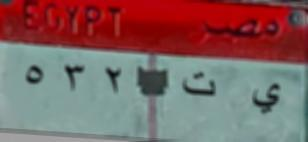2: (105, 62, 125, 98)
3: (61, 59, 87, 96)
5: (21, 58, 47, 90)
taa: (180, 70, 218, 102)
yaa: (251, 80, 283, 119)
